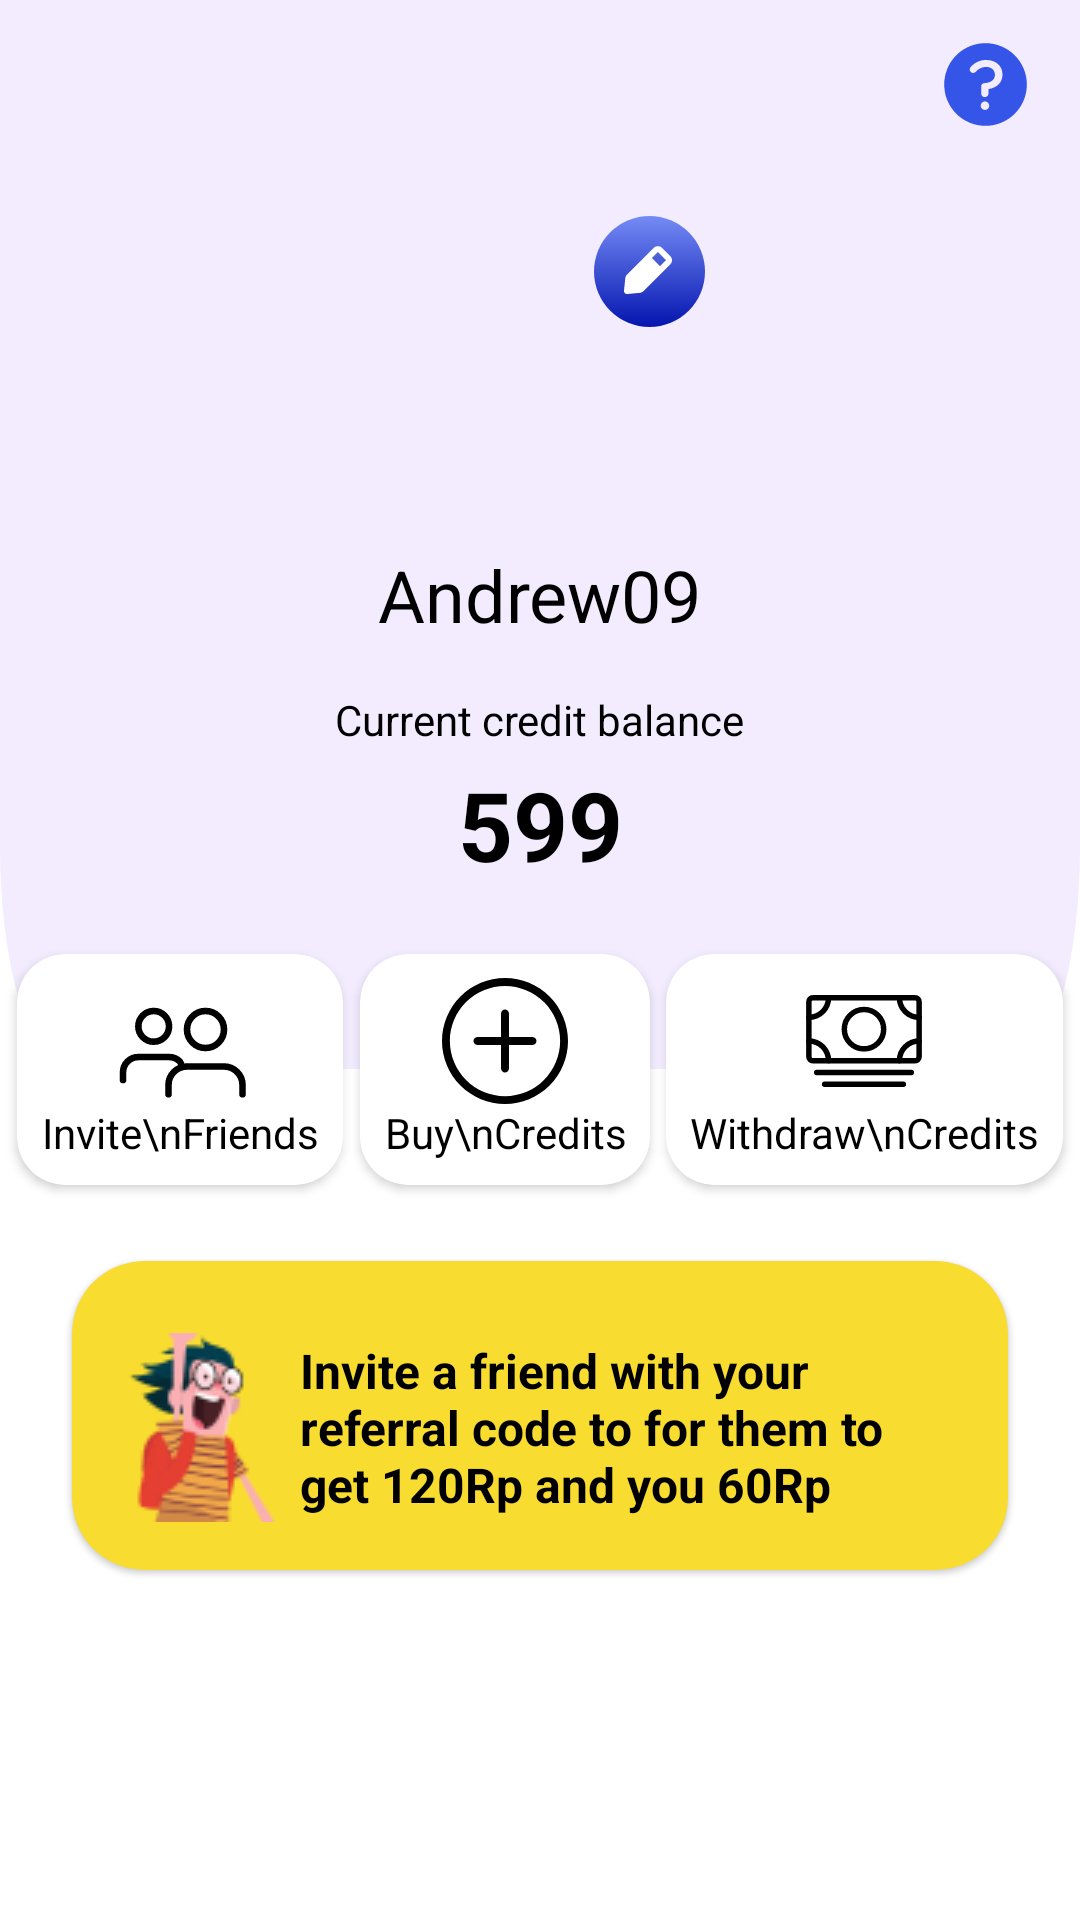

Point at icon controls on the screen. Image size 1080×1920, points as point (x, y).
cash: point (864, 1041)
edit: point (649, 271)
help: point (985, 84)
kid: point (202, 1427)
